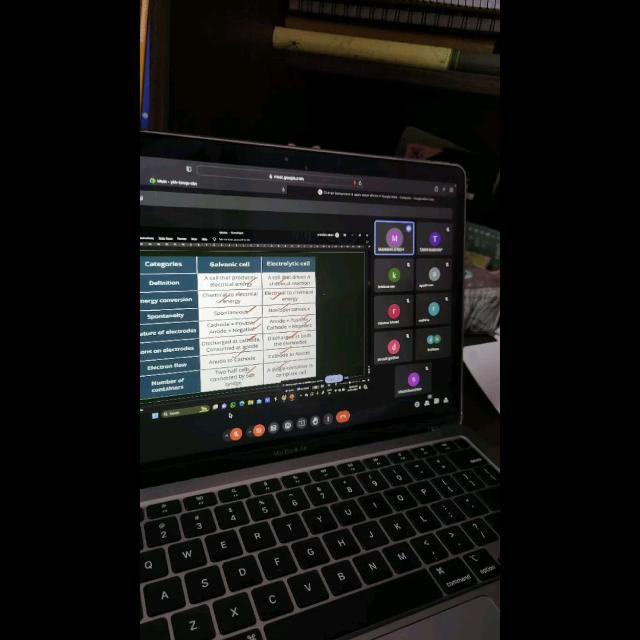laptop: (140, 131, 500, 640)
